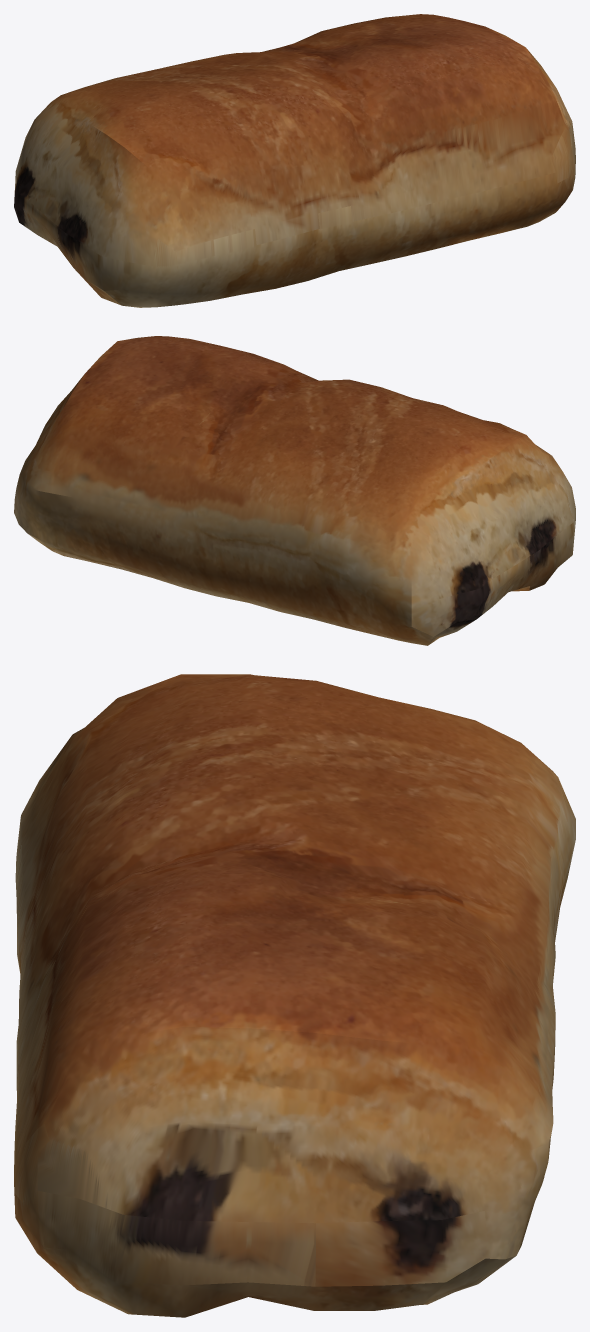
Rendered from uploads_files_3613241_PainAuChoc_LOD3.glb.
The picture shows the model from 3 angles, top to bottom: view 1: azimuth 30°, elevation 25°; view 2: azimuth 150°, elevation 25°; view 3: azimuth 270°, elevation 25°; orthographic projection. The views are drawn at different scales.
Parts seen in each view (by area): view 1: PainAuChoc_LOD1; view 2: PainAuChoc_LOD1; view 3: PainAuChoc_LOD1.
Part boxes in pixels (left/top/right/bottom): PainAuChoc_LOD1: left=14, top=14, right=575, bottom=307; PainAuChoc_LOD1: left=14, top=336, right=575, bottom=645; PainAuChoc_LOD1: left=14, top=674, right=575, bottom=1317.
Size of the model in its own units: 1.49 by 0.5111 by 0.8275.
1 material, 1 textured.
